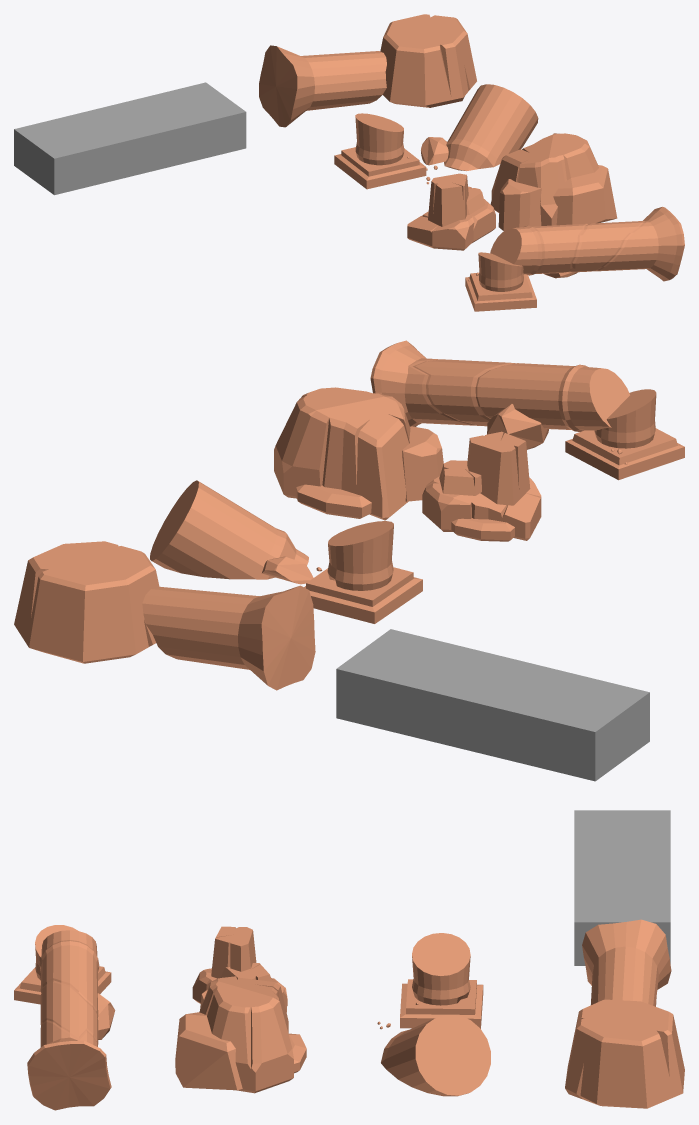
The model's file is lane_jump_obstacle.fbx.
The picture shows the model from 3 angles, top to bottom: view 1: azimuth 30°, elevation 25°; view 2: azimuth 150°, elevation 25°; view 3: azimuth 270°, elevation 25°; orthographic projection. The views are drawn at different scales.
Visible parts, largest first — view 1: lane_jump_obstacle_dummy, lane_jump_obstacle_A, lane_jump_obstacle_C, lane_jump_obstacle_D, lane_jump_obstacle_B; view 2: lane_jump_obstacle_dummy, lane_jump_obstacle_A, lane_jump_obstacle_C, lane_jump_obstacle_D, lane_jump_obstacle_B; view 3: lane_jump_obstacle_A, lane_jump_obstacle_C, lane_jump_obstacle_D, lane_jump_obstacle_B, lane_jump_obstacle_dummy.
Boxes of the visible parts, x1,y1,x2,y2 form: lane_jump_obstacle_dummy: [14, 82, 246, 195]; lane_jump_obstacle_A: [259, 14, 476, 127]; lane_jump_obstacle_C: [407, 133, 617, 250]; lane_jump_obstacle_D: [465, 206, 684, 311]; lane_jump_obstacle_B: [334, 84, 538, 189]; lane_jump_obstacle_dummy: [336, 629, 649, 781]; lane_jump_obstacle_A: [14, 541, 315, 690]; lane_jump_obstacle_C: [274, 387, 541, 541]; lane_jump_obstacle_D: [370, 340, 684, 480]; lane_jump_obstacle_B: [150, 480, 422, 623]; lane_jump_obstacle_A: [565, 919, 684, 1108]; lane_jump_obstacle_C: [175, 926, 306, 1093]; lane_jump_obstacle_D: [14, 925, 115, 1110]; lane_jump_obstacle_B: [377, 933, 490, 1096]; lane_jump_obstacle_dummy: [574, 810, 670, 965].
Size of the model in its own units: 1261 by 246 by 1393.
